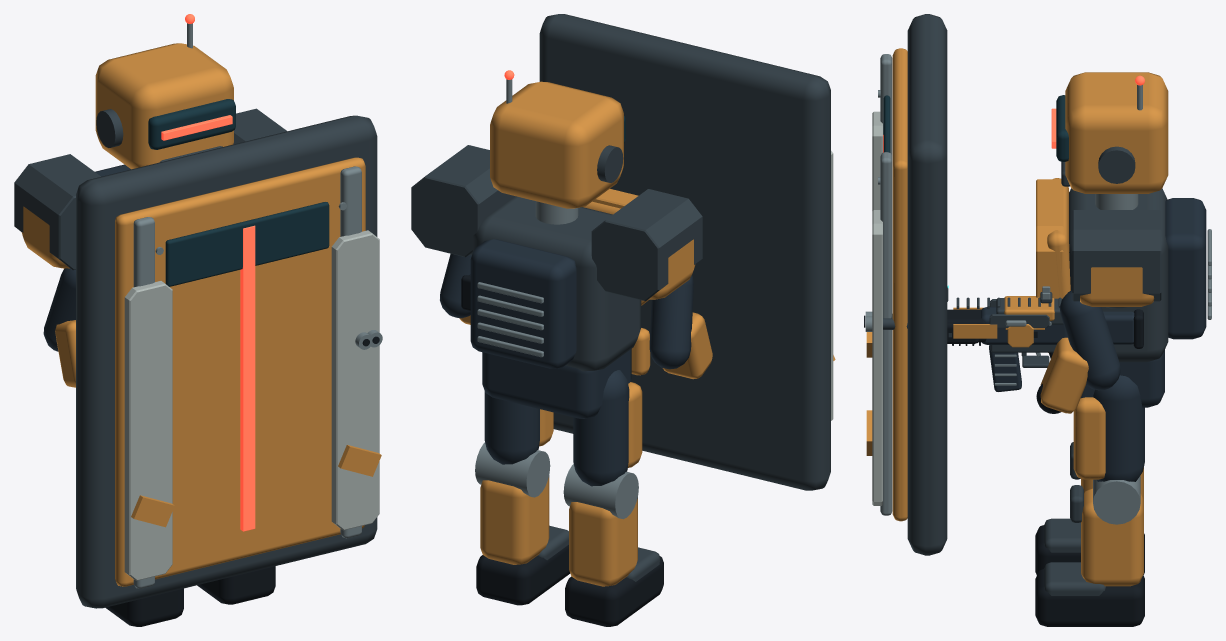
Rendered from shield-sentinel.glb.
3 views of the same model, side by side, from view 1: azimuth 30°, elevation 25°; view 2: azimuth 150°, elevation 25°; view 3: azimuth 270°, elevation 25° (orthographic). The views are drawn at different scales.
Visible parts, largest first — view 1: shield_visual / Safety ochre, shield_visual / Gunmetal, shield_visual / Ceramic armor, head / Safety ochre, shield_visual / Sensor glass, shield Sentinel / Gunmetal, shield_visual / Hostile sensor, shield_visual / Brushed titanium, head / Sensor glass, arm_L / Safety ochre, leg_R / Grip rubber, leg_L / Grip rubber (+3 smaller); view 2: shield_visual / Gunmetal, shield Sentinel / Gunmetal, head / Safety ochre, torso / Graphite polymer, torso / Gunmetal, leg_L / Safety ochre, hips / Graphite polymer, leg_R / Safety ochre, leg_L / Graphite polymer, leg_L / Grip rubber, leg_R / Grip rubber, leg_R / Graphite polymer (+12 smaller); view 3: shield_visual / Gunmetal, head / Safety ochre, shield_visual / Safety ochre, leg_R / Safety ochre, shield Sentinel / Gunmetal, torso / Graphite polymer, arm_R / Safety ochre, shield_visual / Brushed titanium, shield_visual / Ceramic armor, leg_R / Grip rubber, leg_R / Graphite polymer, torso / Gunmetal (+15 smaller).
Boxes of the visible parts, x1,y1,x2,y2 form: shield_visual / Safety ochre: (115, 157, 381, 586); shield_visual / Gunmetal: (76, 115, 377, 608); shield_visual / Ceramic armor: (124, 230, 379, 580); head / Safety ochre: (95, 43, 233, 169); shield_visual / Sensor glass: (165, 202, 329, 286); shield Sentinel / Gunmetal: (14, 108, 286, 270); shield_visual / Hostile sensor: (240, 225, 255, 531); shield_visual / Brushed titanium: (133, 166, 361, 588); head / Sensor glass: (148, 99, 235, 149); arm_L / Safety ochre: (21, 206, 75, 387); leg_R / Grip rubber: (197, 566, 275, 604); leg_L / Grip rubber: (105, 588, 183, 626); shield_visual / Gunmetal: (539, 14, 830, 490); shield Sentinel / Gunmetal: (411, 145, 702, 301); head / Safety ochre: (490, 81, 623, 208); torso / Graphite polymer: (470, 239, 576, 368); torso / Gunmetal: (472, 196, 641, 371); leg_L / Safety ochre: (569, 382, 642, 586); hips / Graphite polymer: (482, 349, 631, 418); leg_R / Safety ochre: (480, 409, 553, 564); leg_L / Graphite polymer: (573, 370, 629, 486); leg_L / Grip rubber: (565, 556, 663, 626); leg_R / Grip rubber: (476, 545, 570, 605); leg_R / Graphite polymer: (484, 391, 539, 464); shield_visual / Gunmetal: (907, 14, 947, 555); head / Safety ochre: (1065, 72, 1168, 193); shield_visual / Safety ochre: (866, 48, 907, 521); leg_R / Safety ochre: (1073, 397, 1143, 586); shield Sentinel / Gunmetal: (1072, 210, 1161, 301); torso / Graphite polymer: (1165, 198, 1206, 339); arm_R / Safety ochre: (1040, 267, 1154, 413); shield_visual / Brushed titanium: (878, 54, 892, 515); shield_visual / Ceramic armor: (872, 111, 882, 505); leg_R / Grip rubber: (1035, 568, 1144, 626); leg_R / Graphite polymer: (1093, 375, 1144, 481); torso / Gunmetal: (1069, 188, 1168, 362).
Size of the model in its own units: 1.05 by 1.79 by 1.05.
